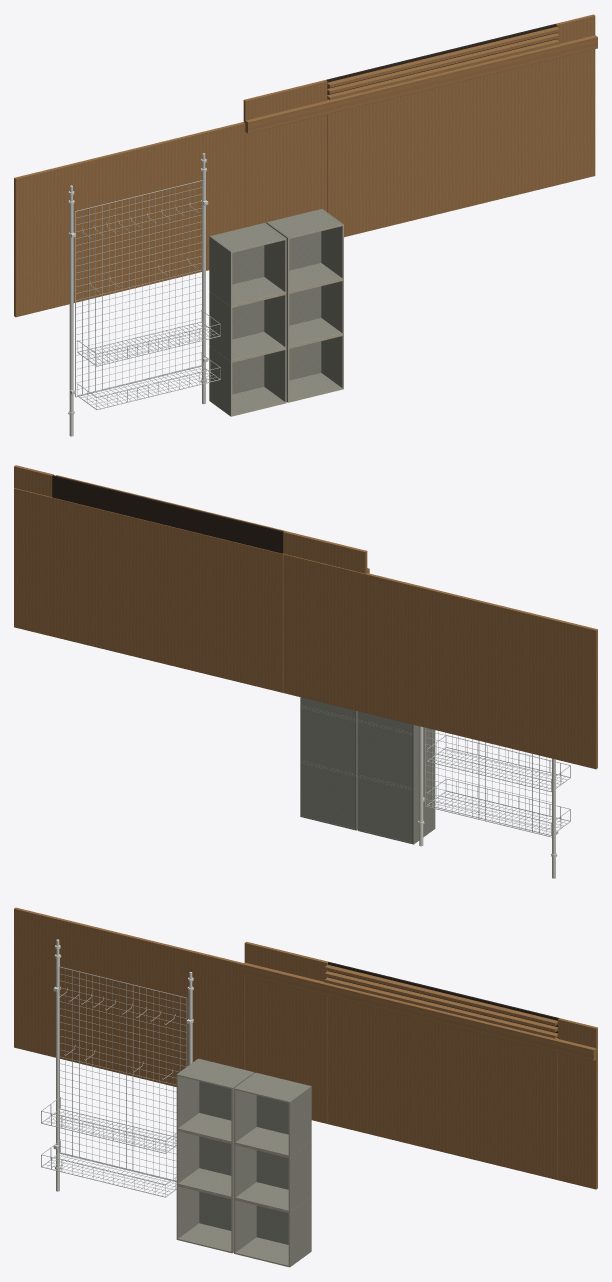
Rendered from souvenir.glb.
3 views of the same model, one above another, from view 1: azimuth 30°, elevation 25°; view 2: azimuth 150°, elevation 25°; view 3: azimuth 330°, elevation 25° (orthographic).
Parts seen in each view (by area): view 1: wall_louver_sample__01_Original_wood_finish, souvenir_wall_panel_instance__01_Original_wood_finish, box_shelves__03_Original_grey_wood, wire_display__01_Satin_wire_steel, box_shelves__04_Pale_board_edges, wire_display__02_Pale_painted_poles, wall_louver_sample__02_Recessed_shadow_finish; view 2: wall_louver_sample__01_Original_wood_finish, souvenir_wall_panel_instance__01_Original_wood_finish, box_shelves__03_Original_grey_wood, wire_display__01_Satin_wire_steel, wall_louver_sample__02_Recessed_shadow_finish, wire_display__02_Pale_painted_poles; view 3: wall_louver_sample__01_Original_wood_finish, souvenir_wall_panel_instance__01_Original_wood_finish, box_shelves__03_Original_grey_wood, wire_display__01_Satin_wire_steel, box_shelves__04_Pale_board_edges, wire_display__02_Pale_painted_poles, wall_louver_sample__02_Recessed_shadow_finish.
Boxes of the visible parts, <box> form: wall_louver_sample__01_Original_wood_finish: <box>243,14,597,237</box>; souvenir_wall_panel_instance__01_Original_wood_finish: <box>14,122,245,317</box>; box_shelves__03_Original_grey_wood: <box>209,209,343,416</box>; wire_display__01_Satin_wire_steel: <box>75,180,220,409</box>; box_shelves__04_Pale_board_edges: <box>231,224,343,416</box>; wire_display__02_Pale_painted_poles: <box>68,153,208,436</box>; wall_louver_sample__02_Recessed_shadow_finish: <box>326,24,556,99</box>; wall_louver_sample__01_Original_wood_finish: <box>14,465,369,712</box>; souvenir_wall_panel_instance__01_Original_wood_finish: <box>365,573,597,769</box>; box_shelves__03_Original_grey_wood: <box>300,697,435,844</box>; wire_display__01_Satin_wire_steel: <box>424,727,570,837</box>; wall_louver_sample__02_Recessed_shadow_finish: <box>52,475,283,553</box>; wire_display__02_Pale_painted_poles: <box>418,726,558,878</box>; wall_louver_sample__01_Original_wood_finish: <box>242,941,597,1189</box>; souvenir_wall_panel_instance__01_Original_wood_finish: <box>14,907,244,1086</box>; box_shelves__03_Original_grey_wood: <box>177,1058,311,1266</box>; wire_display__01_Satin_wire_steel: <box>41,966,187,1197</box>; box_shelves__04_Pale_board_edges: <box>176,1074,289,1267</box>; wire_display__02_Pale_painted_poles: <box>53,939,193,1191</box>; wall_louver_sample__02_Recessed_shadow_finish: <box>328,962,558,1037</box>.
Bounding box in the file's own units: 5.3 × 2.5 × 0.4571.
Materials: 6 (2 with a texture image).
